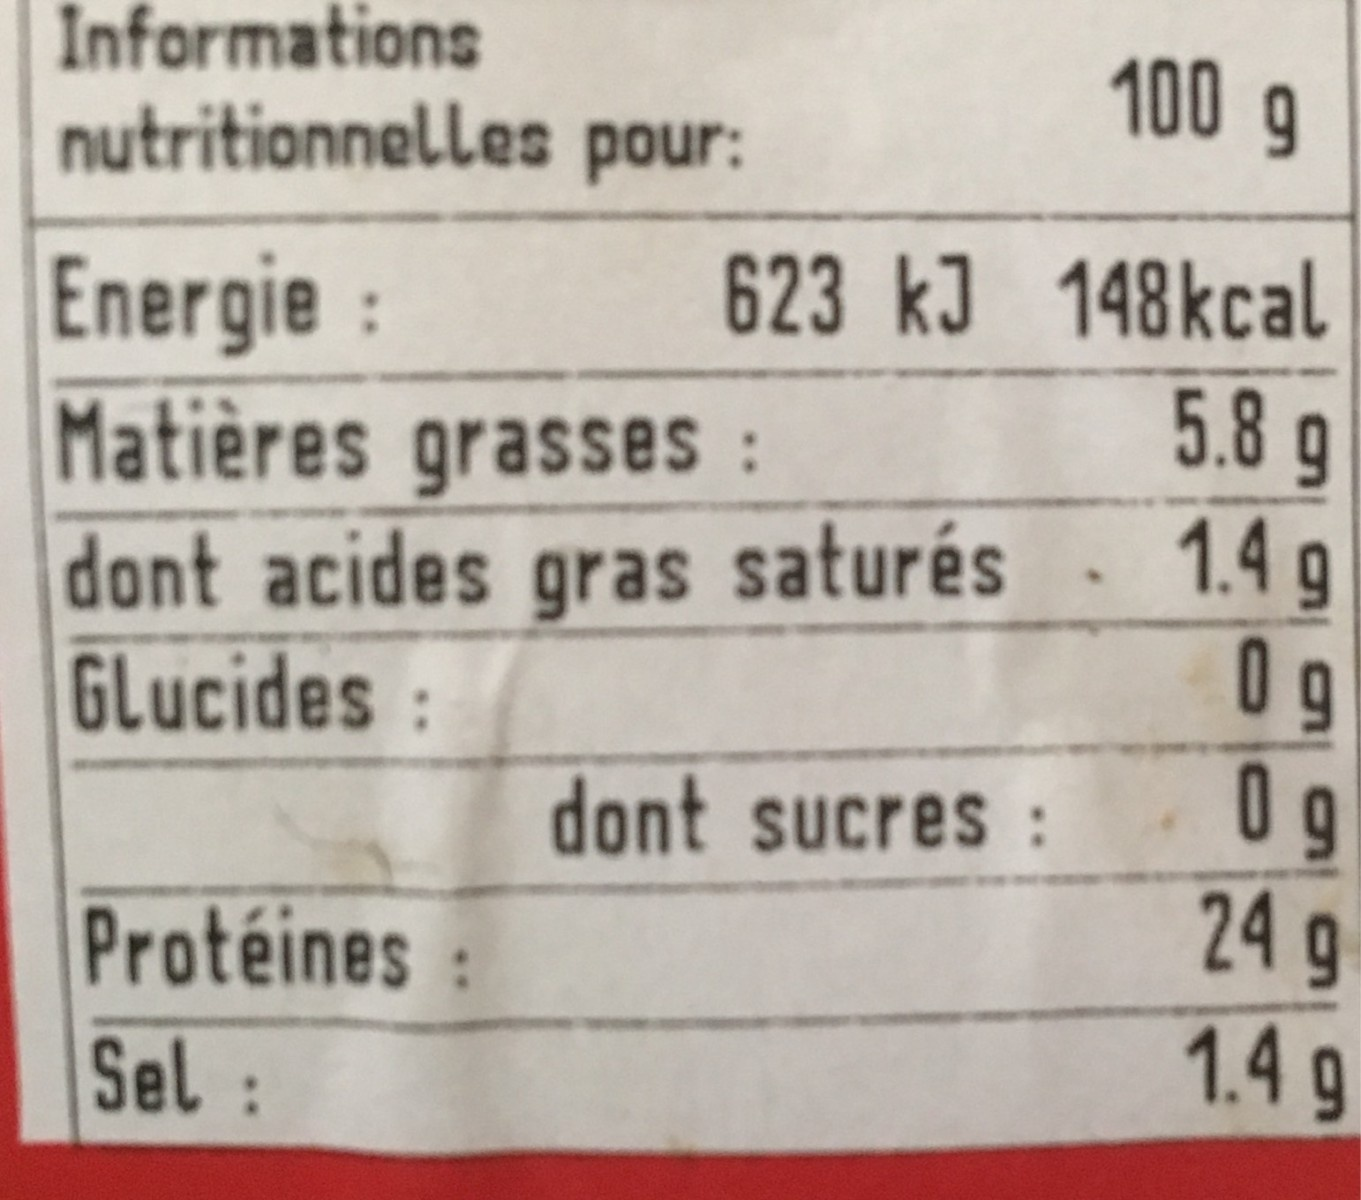column: (32, 226, 1046, 1146), (1053, 21, 1355, 1136)
table: (21, 6, 1361, 1143)
